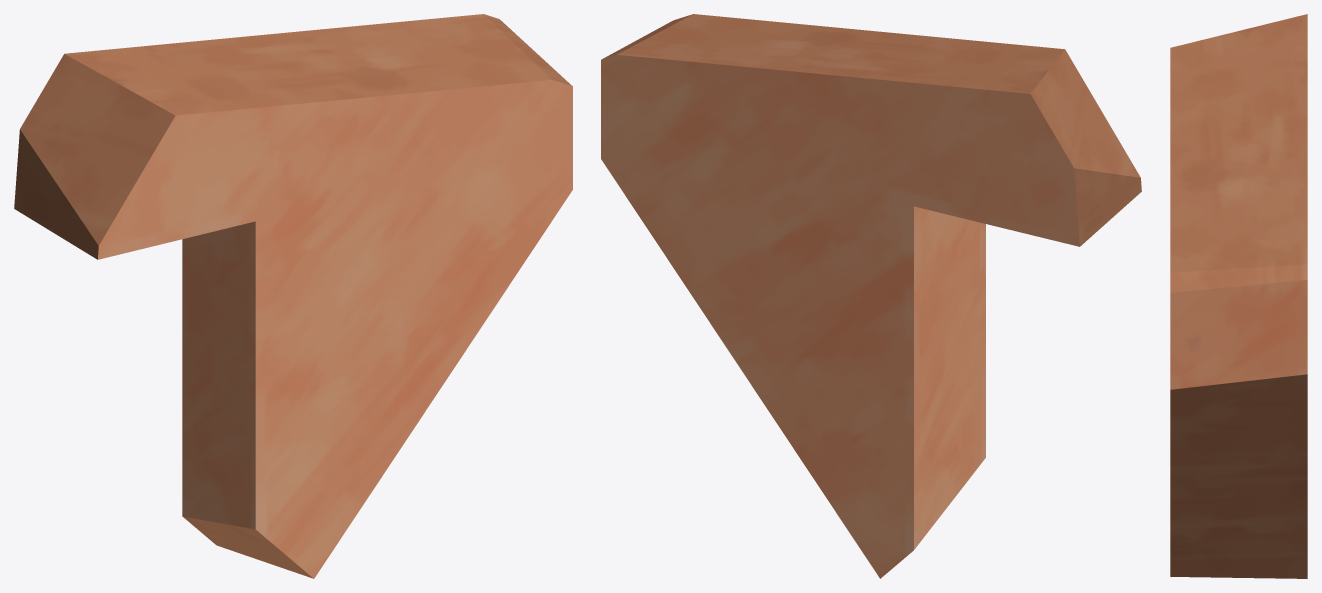
File: wall_window_s10.fbx
3 views of the same model, side by side, from view 1: azimuth 30°, elevation 25°; view 2: azimuth 150°, elevation 25°; view 3: azimuth 270°, elevation 25° (orthographic). The views are drawn at different scales.
Visible parts, largest first — view 1: wall_window_s10; view 2: wall_window_s10; view 3: wall_window_s10.
Boxes of the visible parts, left/top/right/bottom form: wall_window_s10: left=14, top=14, right=572, bottom=578; wall_window_s10: left=601, top=14, right=1141, bottom=578; wall_window_s10: left=1170, top=14, right=1307, bottom=578.
Bounding box in the file's own units: 3.83 × 3.98 × 1.
